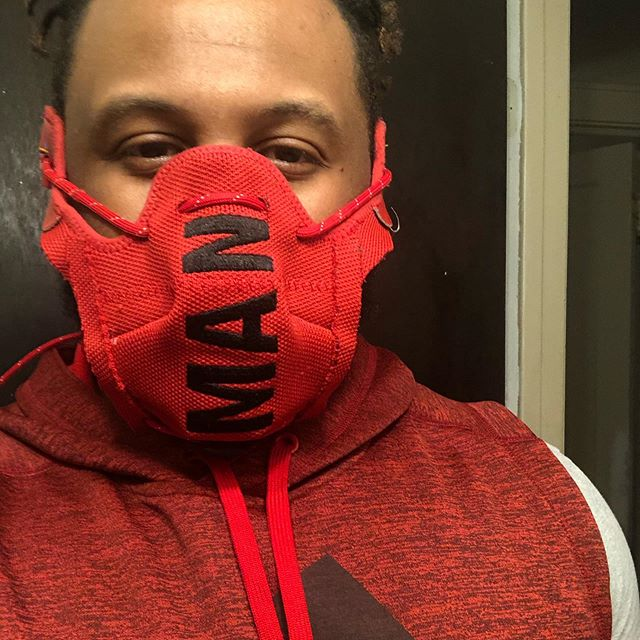homemade: (50, 162, 382, 424)
